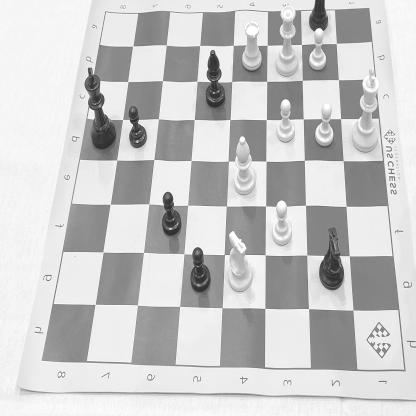black-bishop: (203, 46, 227, 112)
black-king: (80, 62, 118, 154)
black-knight: (316, 224, 348, 297)
black-pawn: (188, 242, 214, 294), (160, 185, 182, 239), (125, 104, 149, 152)
black-rook: (306, 0, 334, 34)
white-bishop: (232, 132, 258, 200)
white-king: (349, 66, 383, 156)
white-knight: (225, 225, 254, 297)
white-pawn: (269, 196, 295, 250), (272, 95, 296, 147), (312, 100, 336, 150), (308, 26, 328, 74)
white-queen: (273, 0, 302, 79)
white-rook: (238, 17, 264, 76)
